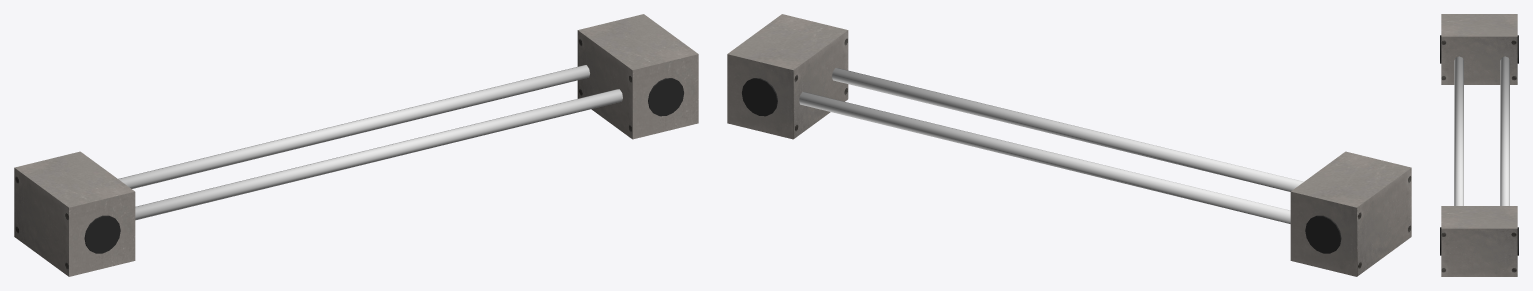
File: GantryYAxis.fbx
The picture shows the model from 3 angles, left to right: view 1: azimuth 30°, elevation 25°; view 2: azimuth 150°, elevation 25°; view 3: azimuth 270°, elevation 25°; orthographic projection. The views are drawn at different scales.
Visible parts, largest first — view 1: Gantry Span; view 2: Gantry Span; view 3: Gantry Span.
Part boxes in pixels (box(x1,y1,x2,y2)): Gantry Span: box(14, 14, 698, 276); Gantry Span: box(727, 14, 1411, 276); Gantry Span: box(1440, 14, 1518, 276).
Size of the model in its own units: 134 by 14.12 by 20.9.
